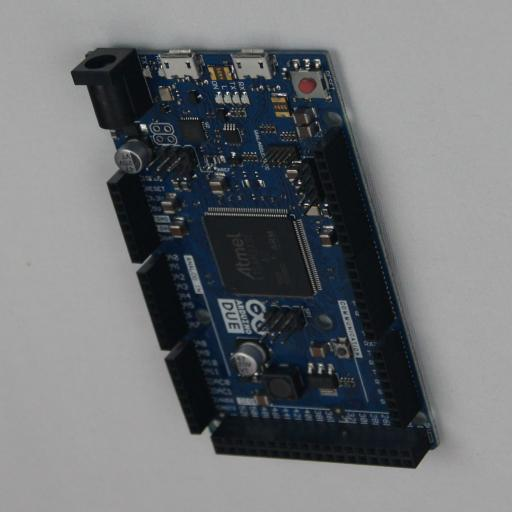Arduino Due: (71, 44, 440, 468)
